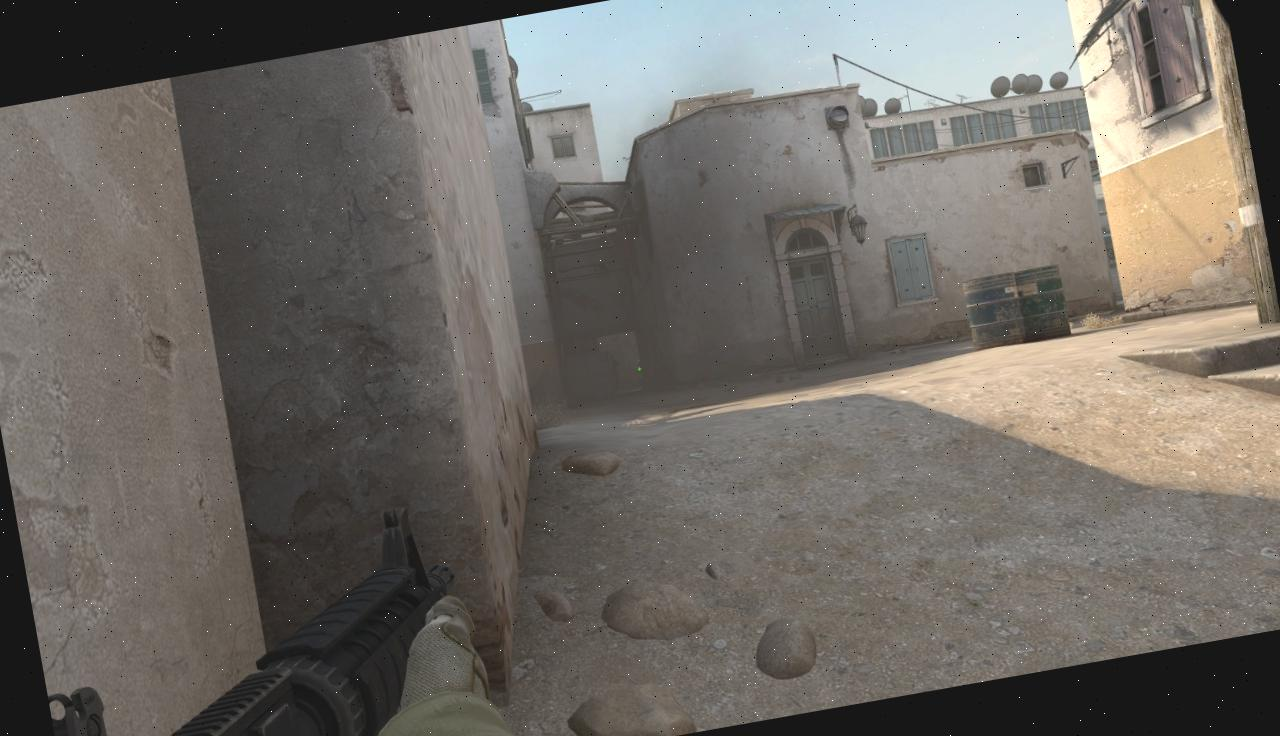rifle: (25, 496, 490, 736)
